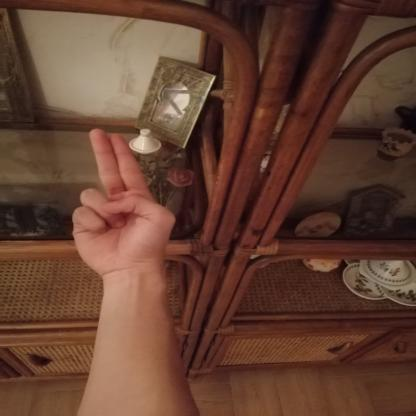TA: (54, 117, 192, 285)
